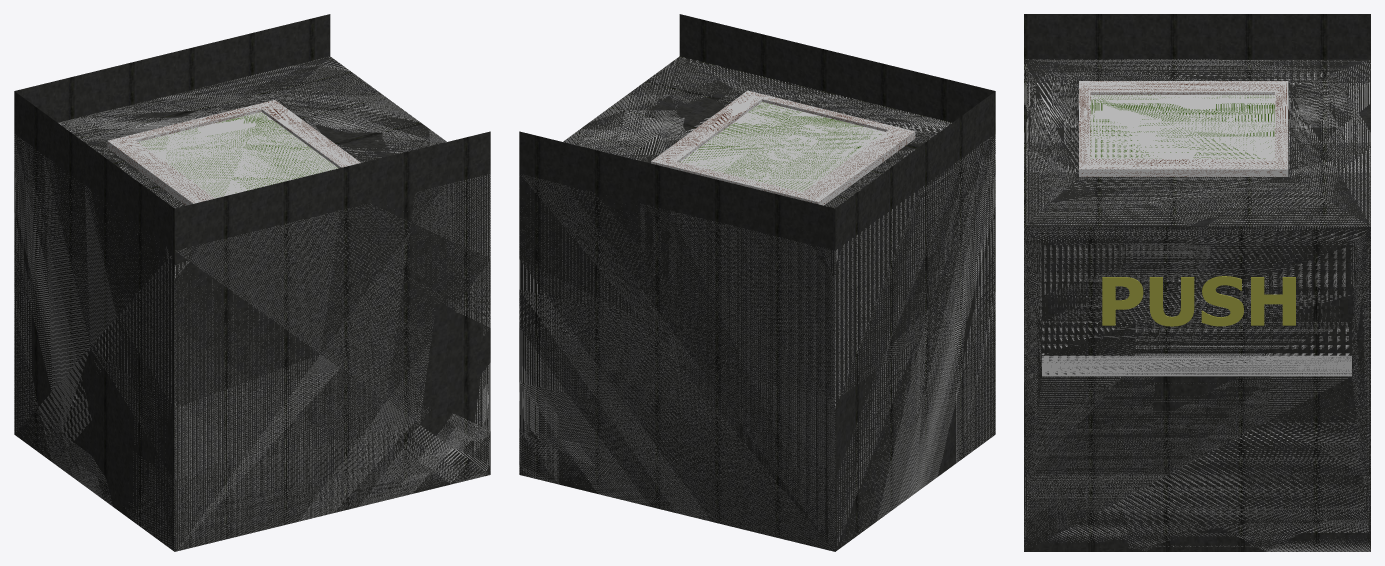
The picture shows the model from 3 angles, left to right: view 1: azimuth 30°, elevation 25°; view 2: azimuth 150°, elevation 25°; view 3: azimuth 270°, elevation 25°; orthographic projection. The views are drawn at different scales.
Visible parts, largest first — view 1: mesh25_mesh25-geometry; view 2: mesh25_mesh25-geometry; view 3: mesh25_mesh25-geometry, mesh4.001_mesh4-geometry, mesh2.001_mesh2-geometry, mesh3.001_mesh3-geometry, mesh1.001_mesh1-geometry.
Boxes of the visible parts, bbox=[...] form: mesh25_mesh25-geometry: bbox=[14, 14, 490, 551]; mesh25_mesh25-geometry: bbox=[519, 14, 995, 551]; mesh25_mesh25-geometry: bbox=[1024, 14, 1370, 551]; mesh4.001_mesh4-geometry: bbox=[1251, 277, 1295, 325]; mesh2.001_mesh2-geometry: bbox=[1149, 277, 1194, 326]; mesh3.001_mesh3-geometry: bbox=[1201, 276, 1243, 326]; mesh1.001_mesh1-geometry: bbox=[1102, 277, 1143, 325].
Bounding box in the file's own units: 0.5931 × 0.6145 × 0.5202.
